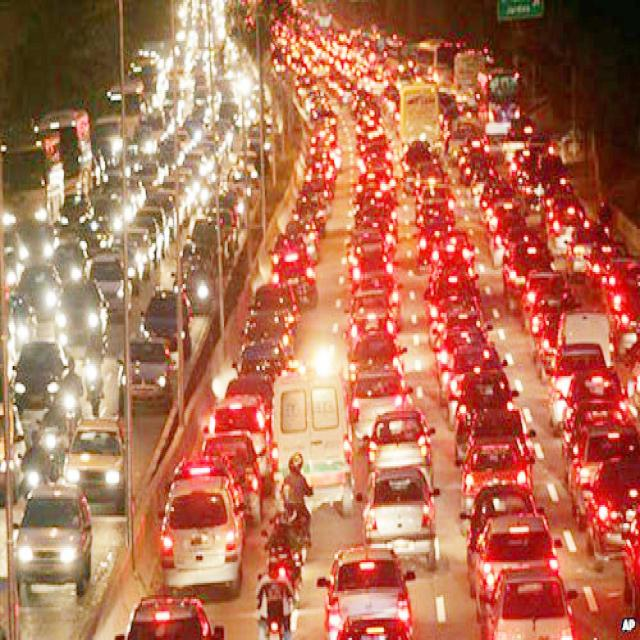Car: (268, 366, 354, 515), (158, 474, 244, 595), (474, 513, 560, 622), (316, 544, 415, 638), (14, 481, 92, 597), (460, 481, 538, 597), (362, 464, 440, 569), (10, 339, 83, 446), (567, 421, 639, 526), (559, 396, 639, 484), (33, 108, 95, 221), (484, 564, 577, 638), (207, 392, 273, 490), (201, 429, 264, 524), (63, 417, 125, 513), (459, 436, 534, 515), (585, 452, 639, 558), (365, 407, 435, 485), (348, 368, 412, 448), (114, 593, 224, 638), (172, 454, 244, 521), (54, 276, 109, 358), (120, 331, 177, 407), (465, 405, 535, 464), (561, 364, 622, 429), (454, 366, 518, 427), (439, 341, 499, 405), (141, 286, 192, 360), (500, 239, 550, 311), (556, 309, 616, 368), (347, 329, 407, 387), (86, 251, 132, 319), (346, 292, 396, 354), (254, 572, 300, 638), (428, 294, 482, 350), (602, 270, 638, 354), (269, 247, 317, 307), (521, 268, 568, 329), (15, 262, 63, 321), (224, 372, 274, 427), (0, 401, 26, 505), (242, 306, 294, 356), (252, 282, 301, 331), (233, 338, 289, 380), (350, 270, 400, 317), (426, 260, 480, 302), (353, 198, 398, 248), (347, 244, 394, 288), (429, 229, 475, 272), (144, 188, 180, 241), (622, 501, 639, 613), (532, 313, 560, 380), (414, 184, 456, 227), (91, 114, 123, 170), (136, 206, 170, 258), (50, 239, 87, 286), (447, 116, 484, 162), (183, 262, 215, 315), (122, 227, 152, 282), (284, 217, 319, 264), (355, 168, 398, 206), (294, 190, 328, 235), (356, 143, 395, 178), (354, 116, 386, 152)
